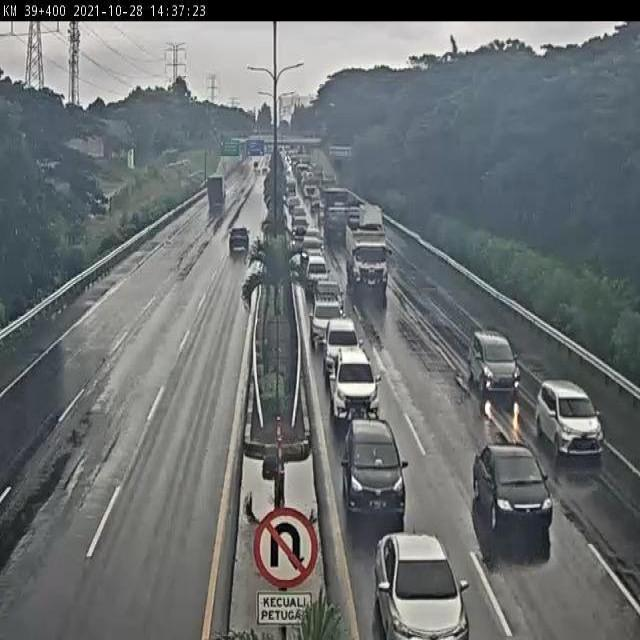big truck: (344, 231, 390, 296), (321, 187, 350, 236)
car: (372, 526, 473, 640), (342, 414, 406, 518), (471, 446, 551, 526), (533, 379, 609, 460), (467, 329, 525, 400), (329, 356, 377, 424), (322, 317, 366, 371), (307, 298, 349, 346), (313, 278, 344, 314), (304, 253, 331, 288), (300, 235, 325, 262), (228, 227, 251, 256), (292, 214, 310, 238), (292, 203, 306, 217)
small truck: (358, 204, 386, 243), (206, 177, 227, 207)
